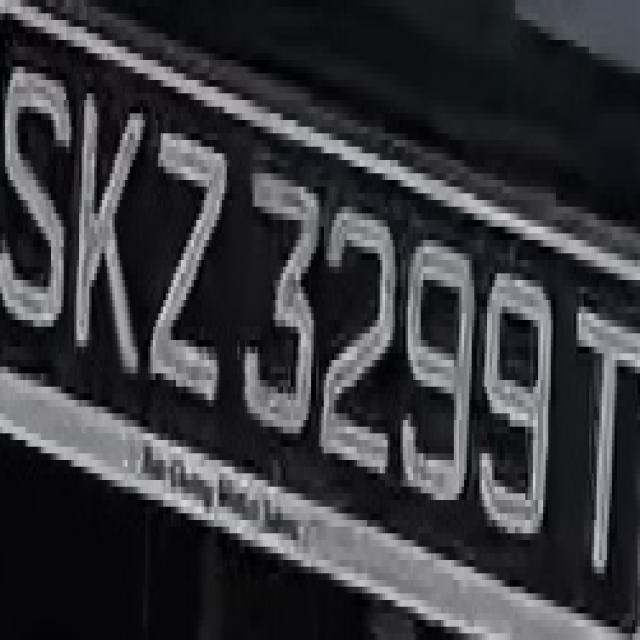2: (316, 167, 395, 513)
3: (242, 133, 319, 467)
9: (400, 214, 482, 554), (479, 220, 558, 567)
K: (64, 60, 148, 400)
S: (2, 40, 64, 373)
T: (561, 260, 640, 580)
Z: (156, 87, 232, 433)
